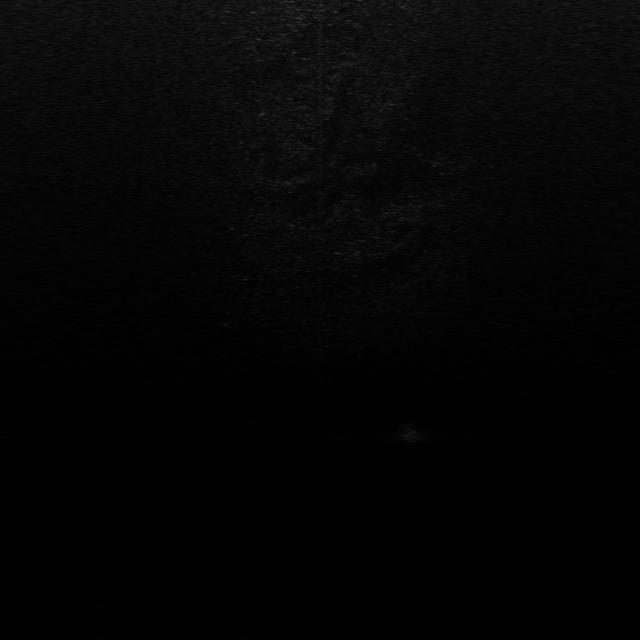ball: (398, 423, 428, 443)
circle cage: (216, 308, 240, 327)
